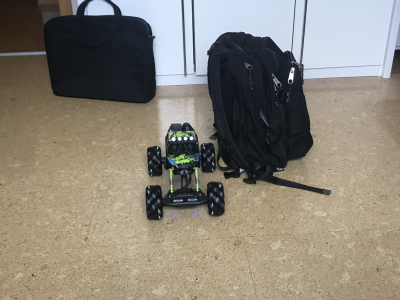remote control car: (139, 121, 228, 221)
